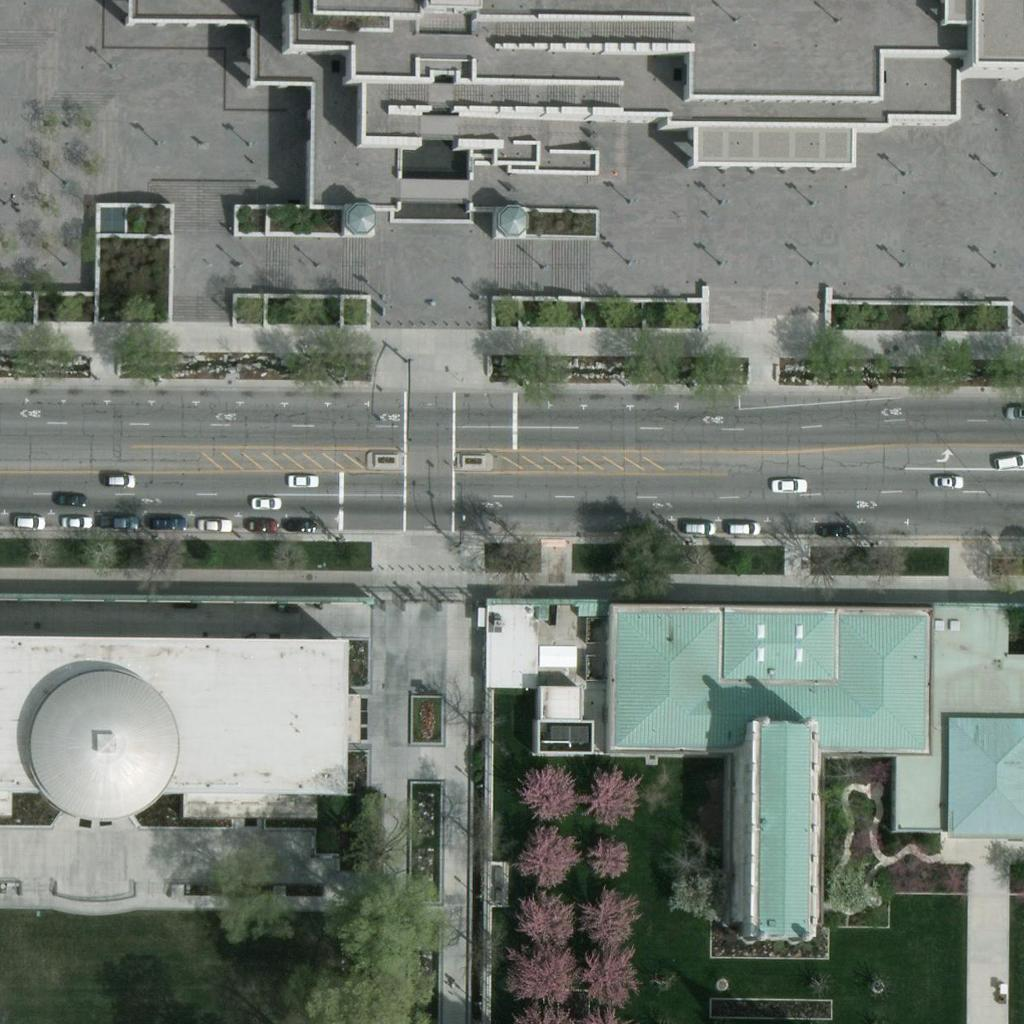car: (101, 462, 135, 496), (285, 462, 319, 496), (929, 465, 963, 499), (770, 467, 804, 501), (53, 481, 87, 515), (246, 485, 280, 519), (103, 504, 137, 538), (148, 504, 182, 538), (10, 505, 44, 539), (280, 505, 314, 539), (281, 505, 315, 539), (59, 506, 93, 540), (195, 509, 229, 543), (244, 509, 278, 543), (681, 510, 715, 544), (725, 511, 759, 545), (815, 512, 849, 546), (994, 444, 1024, 478)
